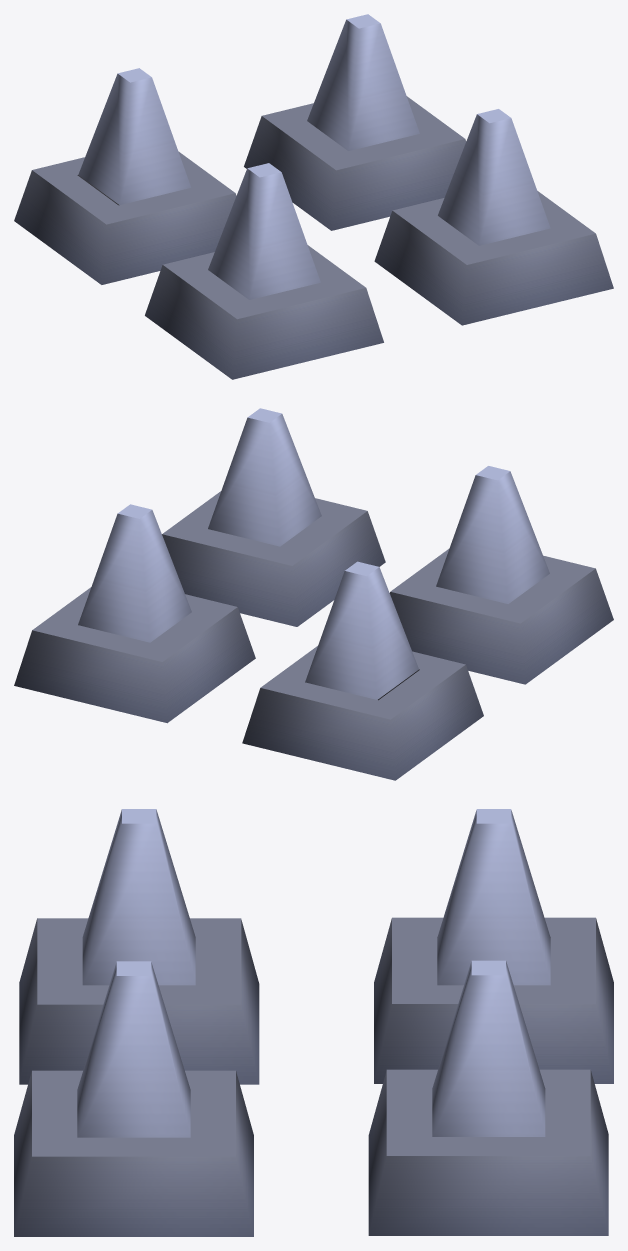
Rendered from trap.glb.
3 renders of one model, top to bottom at view 1: azimuth 30°, elevation 25°; view 2: azimuth 150°, elevation 25°; view 3: azimuth 270°, elevation 25°, orthographic. The views are drawn at different scales.
Visible parts, largest first — view 1: trap, spikes; view 2: trap, spikes; view 3: trap, spikes.
Part boxes in pixels (x1=…): trap: x1=14, y1=96, x2=613, y2=379; spikes: x1=78, y1=14, x2=550, y2=299; trap: x1=14, y1=491, x2=613, y2=780; spikes: x1=78, y1=408, x2=549, y2=699; trap: x1=14, y1=917, x2=613, y2=1236; spikes: x1=77, y1=809, x2=550, y2=1137.
Size of the model in its own units: 0.6392 by 0.255 by 0.6375.
